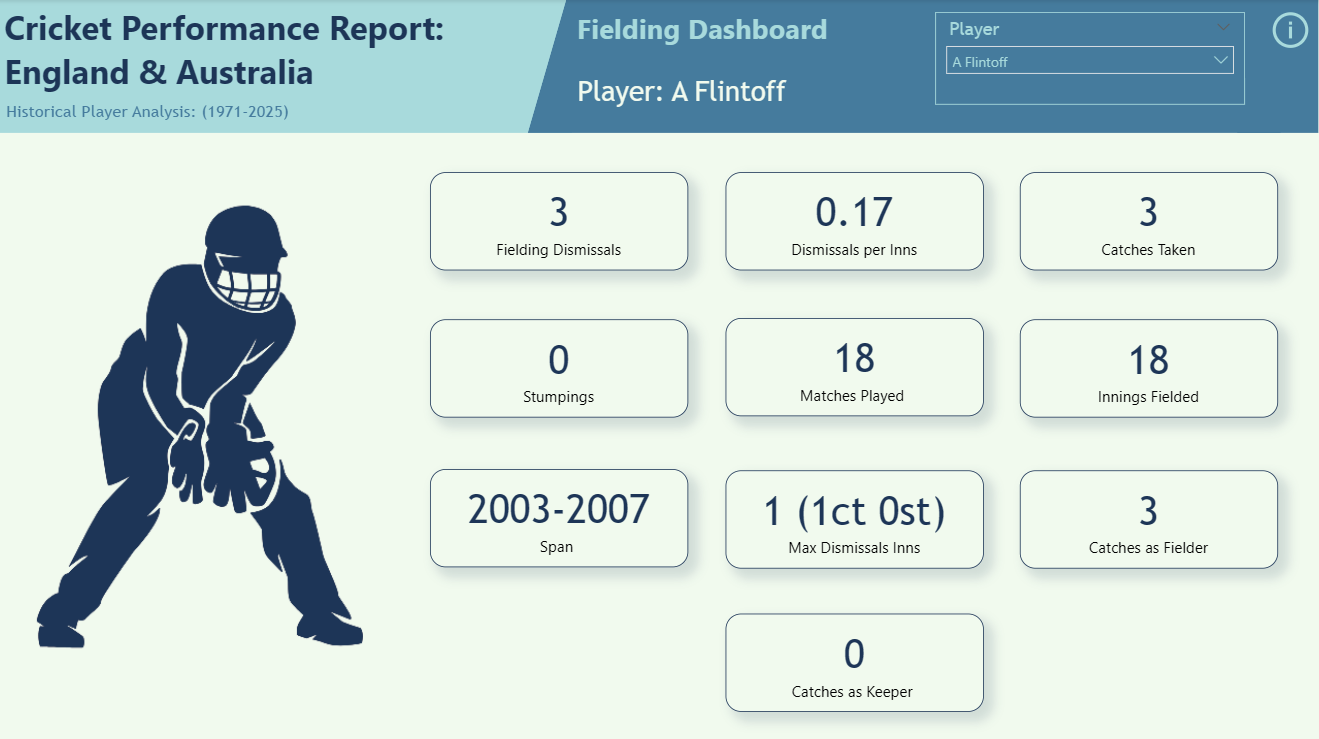

The dashboard page shown, as its layout file describes it:
{"tool":"powerbi","page":{"name":"Fielding","canvas":[1280,720],"ordinal":2},"visuals":[{"type":"shape","title":"Cricket Performance Report: England & Australia","box":[0,0,555.4,130],"z":0},{"type":"shape","title":"Batting Dashboard","box":[512.4,-0.1,767.4,130],"z":1000},{"type":"shape","box":[1200.2,-0.1,79.5,130],"z":2000},{"type":"textbox","box":[555.3,5,302.9,116.1],"z":3000},{"type":"textbox","box":[-0.1,-0.1,555.4,102.2],"z":4000},{"type":"slicer","fields":{"Values":["Fielding.Player "]},"box":[908,13,300,89.6],"z":5000},{"type":"card","fields":{"Values":["_Measures.Fielding Player Name"]},"box":[531.4,56.8,260,65.6],"z":6000},{"type":"card","fields":{"Values":["Sum(Fielding.Catches as Fielder )"]},"box":[989.6,456.9,250,95],"z":7000},{"type":"card","fields":{"Values":["Sum(Fielding.Catches as Keeper )"]},"box":[704.3,595.8,250,95],"z":8000},{"type":"card","fields":{"Values":["Sum(Fielding.Catches Taken)"]},"box":[989.6,167.9,250,95],"z":9000},{"type":"card","fields":{"Values":["Sum(Fielding.Fielding Dismissals)"]},"box":[417.8,167.9,250,95],"z":10000},{"type":"card","fields":{"Values":["Sum(Fielding.Innings Fielded)"]},"box":[989.6,310.5,250,95],"z":11000},{"type":"card","fields":{"Values":["Min(Fielding.Max Dismissals Inns)"]},"box":[703.7,456.5,250,95],"z":12000},{"type":"card","fields":{"Values":["Min(Fielding.Span )"]},"box":[417.8,455.7,250,95],"z":13000},{"type":"card","fields":{"Values":["Sum(Fielding.Dismissals per Inns)"]},"box":[704.3,167.9,250,95],"z":14000},{"type":"card","fields":{"Values":["Sum(Fielding.Matches Played )"]},"box":[704.3,309.2,250,95],"z":15000},{"type":"card","fields":{"Values":["Sum(Fielding.Stumpings)"]},"box":[417.8,310.5,250,95],"z":16000},{"type":"actionButton","box":[1229.4,7.6,45.4,45.4],"z":17000}]}

Visuals, with their boxes in screenshot pixels (x1, y1, x2, y2), scaled from the page's 1280x720 canvas onto the 1319x739 screenshot:
"Cricket Performance Report: England & Australia" shape: pyautogui.locateOnScreen(0, 0, 572, 133)
"Batting Dashboard" shape: pyautogui.locateOnScreen(528, 0, 1318, 133)
shape: pyautogui.locateOnScreen(1237, 0, 1318, 133)
textbox: pyautogui.locateOnScreen(572, 5, 884, 124)
textbox: pyautogui.locateOnScreen(0, 0, 572, 105)
slicer - Fielding.Player : pyautogui.locateOnScreen(936, 13, 1245, 105)
card - _Measures.Fielding Player Name: pyautogui.locateOnScreen(548, 58, 816, 126)
card - Sum(Fielding.Catches as Fielder ): pyautogui.locateOnScreen(1020, 469, 1277, 566)
card - Sum(Fielding.Catches as Keeper ): pyautogui.locateOnScreen(726, 612, 983, 709)
card - Sum(Fielding.Catches Taken): pyautogui.locateOnScreen(1020, 172, 1277, 270)
card - Sum(Fielding.Fielding Dismissals): pyautogui.locateOnScreen(431, 172, 688, 270)
card - Sum(Fielding.Innings Fielded): pyautogui.locateOnScreen(1020, 319, 1277, 416)
card - Min(Fielding.Max Dismissals Inns): pyautogui.locateOnScreen(725, 469, 983, 566)
card - Min(Fielding.Span ): pyautogui.locateOnScreen(431, 468, 688, 565)
card - Sum(Fielding.Dismissals per Inns): pyautogui.locateOnScreen(726, 172, 983, 270)
card - Sum(Fielding.Matches Played ): pyautogui.locateOnScreen(726, 317, 983, 415)
card - Sum(Fielding.Stumpings): pyautogui.locateOnScreen(431, 319, 688, 416)
actionButton: pyautogui.locateOnScreen(1267, 8, 1314, 54)
